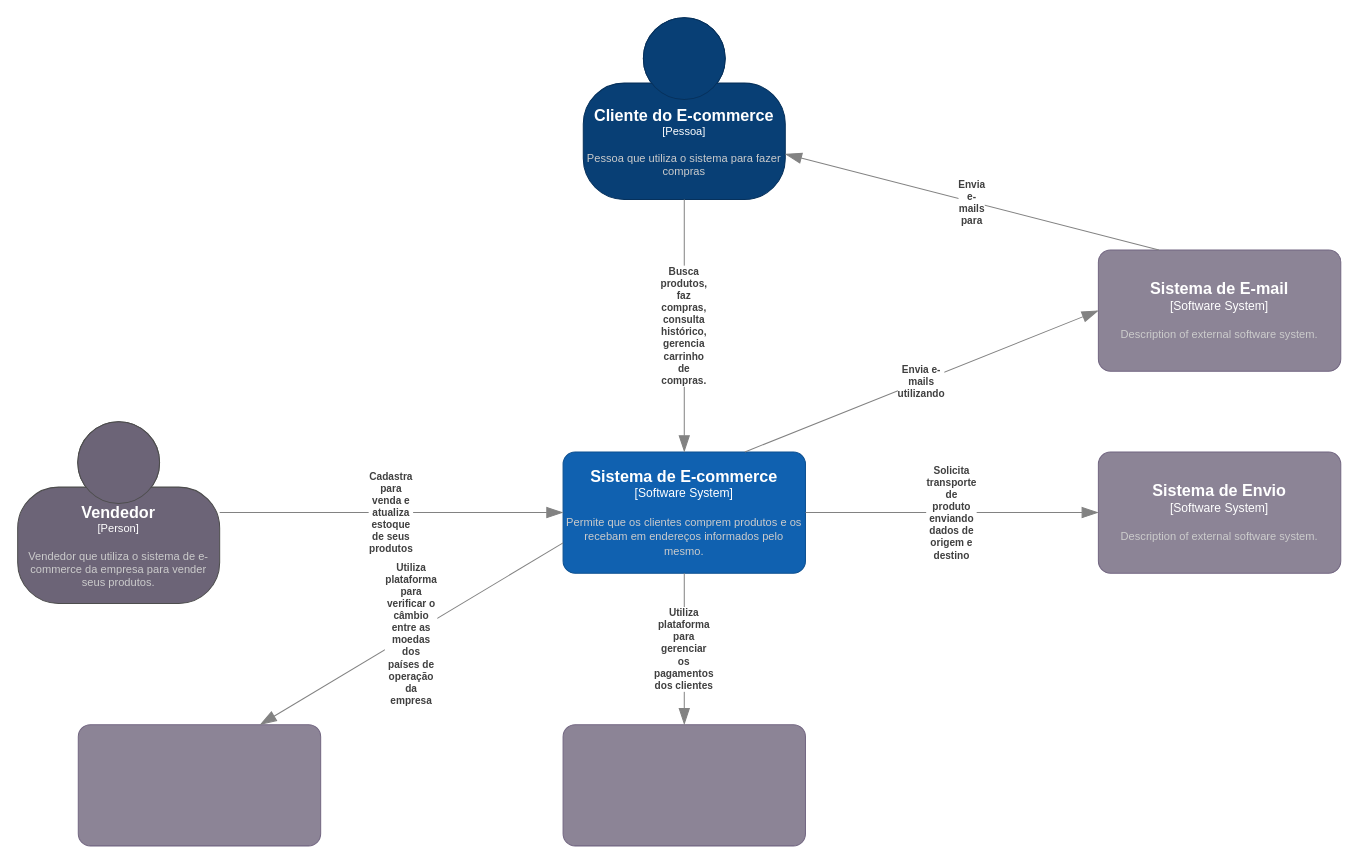
This 1358x864 diagram has some shape labels left out. Here are the shapes that lost their labels. From the top down, the centre of each, then its label:
the point at 199,785: Sistema de Câmbio [Software System] Description of external software system.
the point at 683,785: Sistema de Pagamentos [Software System] Description of external software system.
